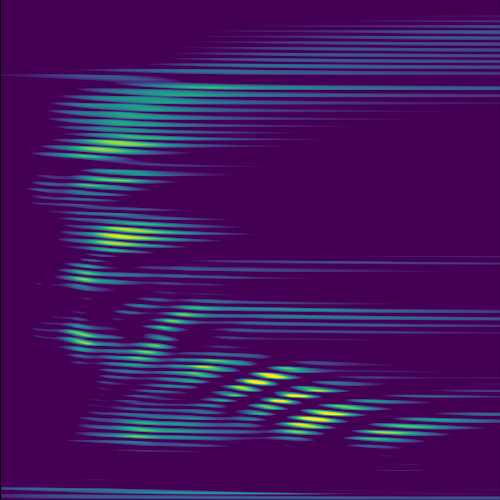semblance: (287, 402, 363, 435), (91, 220, 166, 251), (263, 382, 335, 413), (233, 364, 291, 398), (84, 135, 144, 157), (137, 338, 170, 361), (372, 427, 419, 441), (94, 175, 144, 185), (190, 361, 219, 374)
